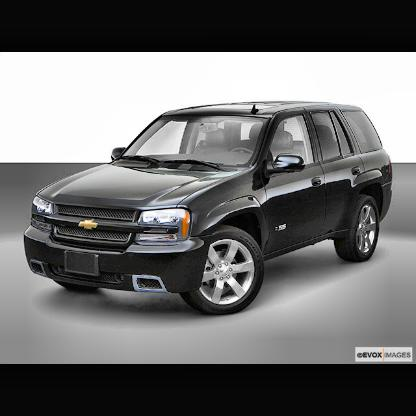Chevrolet TrailBlazer SS 2009: (23, 101, 397, 318)
